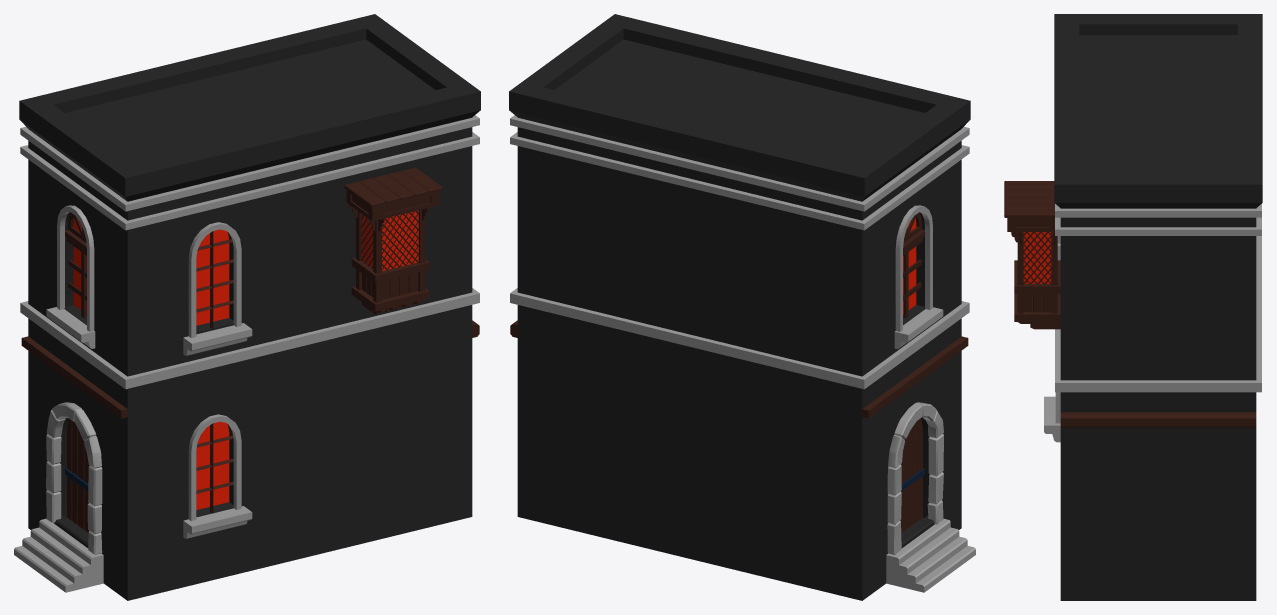
The model's file is civilian_house_25.FBX.
3 renders of one model, left to right at view 1: azimuth 30°, elevation 25°; view 2: azimuth 150°, elevation 25°; view 3: azimuth 270°, elevation 25°, orthographic.
Parts seen in each view (by area): view 1: civilian_house_25; view 2: civilian_house_25; view 3: civilian_house_25.
Boxes of the visible parts, x1,y1,x2,y2 form: civilian_house_25: (14, 14, 480, 600); civilian_house_25: (509, 14, 975, 600); civilian_house_25: (1004, 14, 1262, 600).
Bounding box in the file's own units: 622 × 650 × 363.
